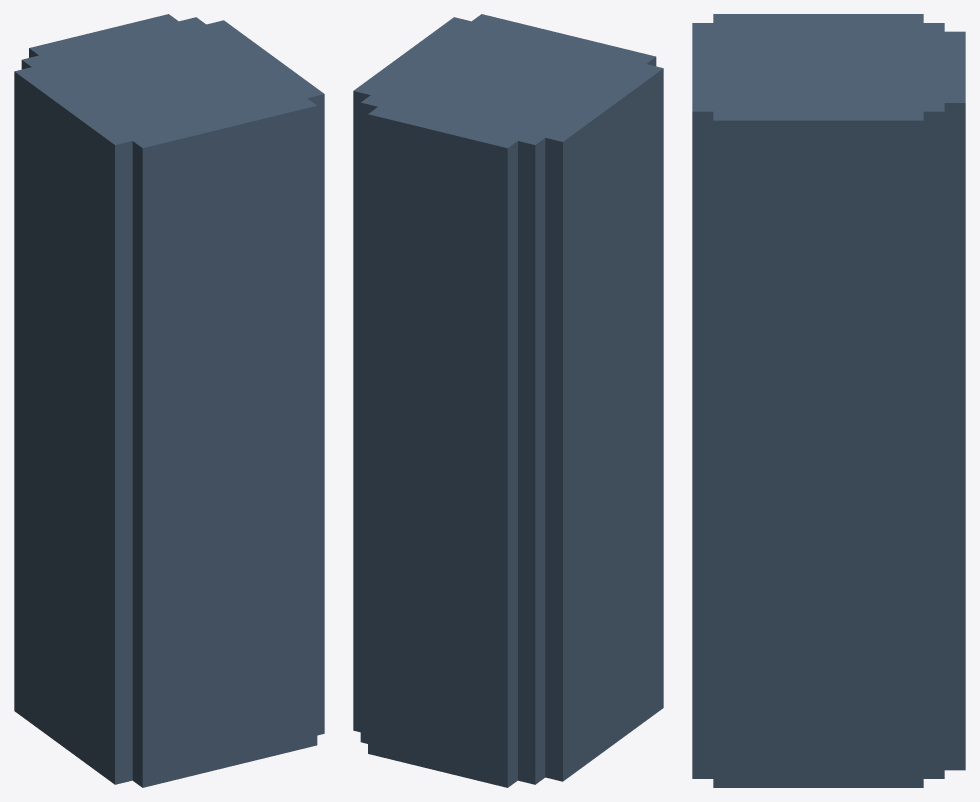
Rendered from worn_jacket_upper.glb.
The picture shows the model from 3 angles, left to right: view 1: azimuth 30°, elevation 25°; view 2: azimuth 150°, elevation 25°; view 3: azimuth 270°, elevation 25°; orthographic projection. The views are drawn at different scales.
Visible parts, largest first — view 1: garment:compound; view 2: garment:compound; view 3: garment:compound.
Part boxes in pixels (x1=…): garment:compound: x1=14, y1=14, x2=324, y2=787; garment:compound: x1=353, y1=14, x2=663, y2=787; garment:compound: x1=692, y1=14, x2=965, y2=787.
Bounding box in the file's own units: 0.12 × 0.35 × 0.13.
